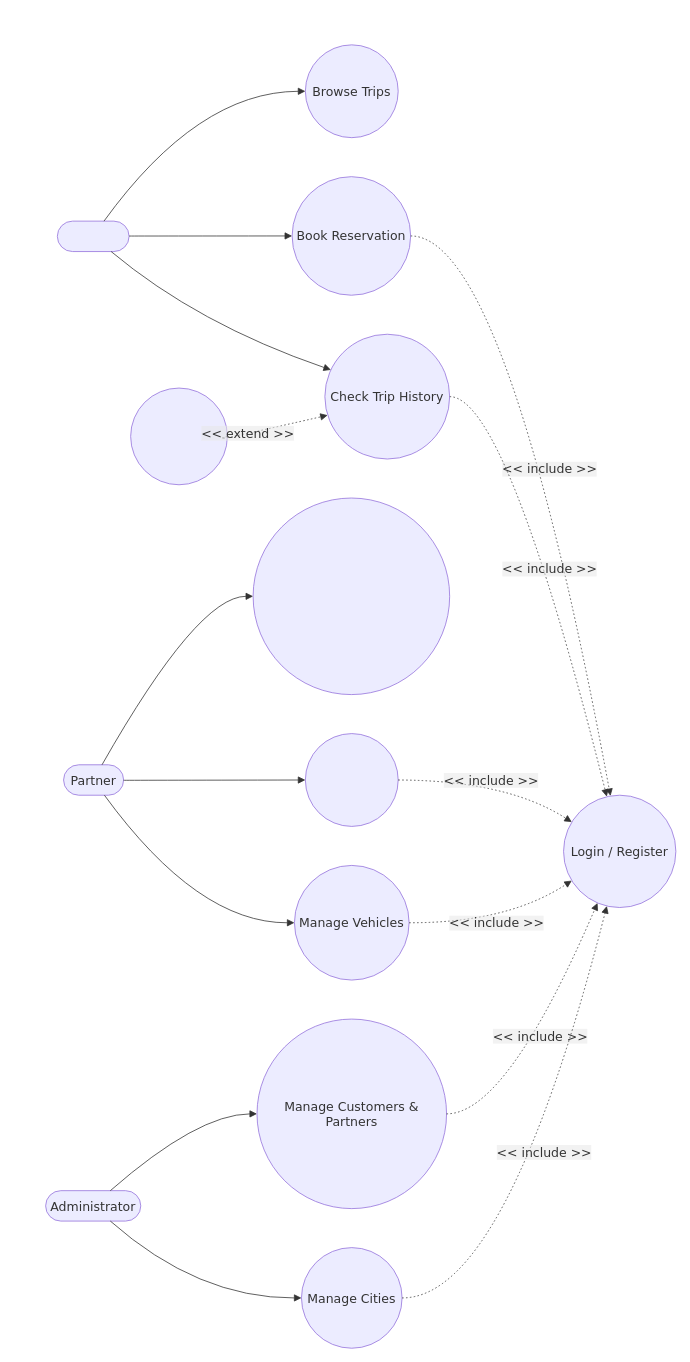
Image size: 690x1362. Some labels were removed from this diagram. Here are the shapes that lost their labels. From the top down, the centre of each, then its label:
At pixel 93 236: "Customer".
At pixel 178 436: "Write Review".
At pixel 351 596: "Provide Info & Await Validation".
At pixel 351 779: "Publish Trips".
